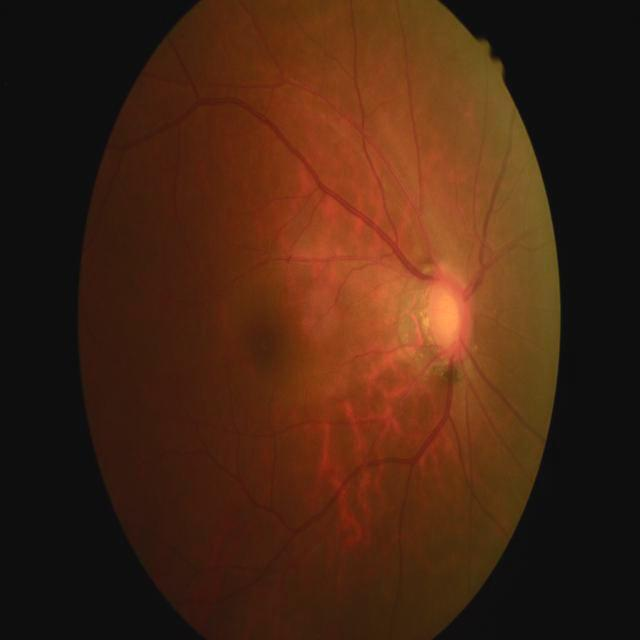cup: (430, 282, 461, 347)
disk: (425, 268, 470, 360)
